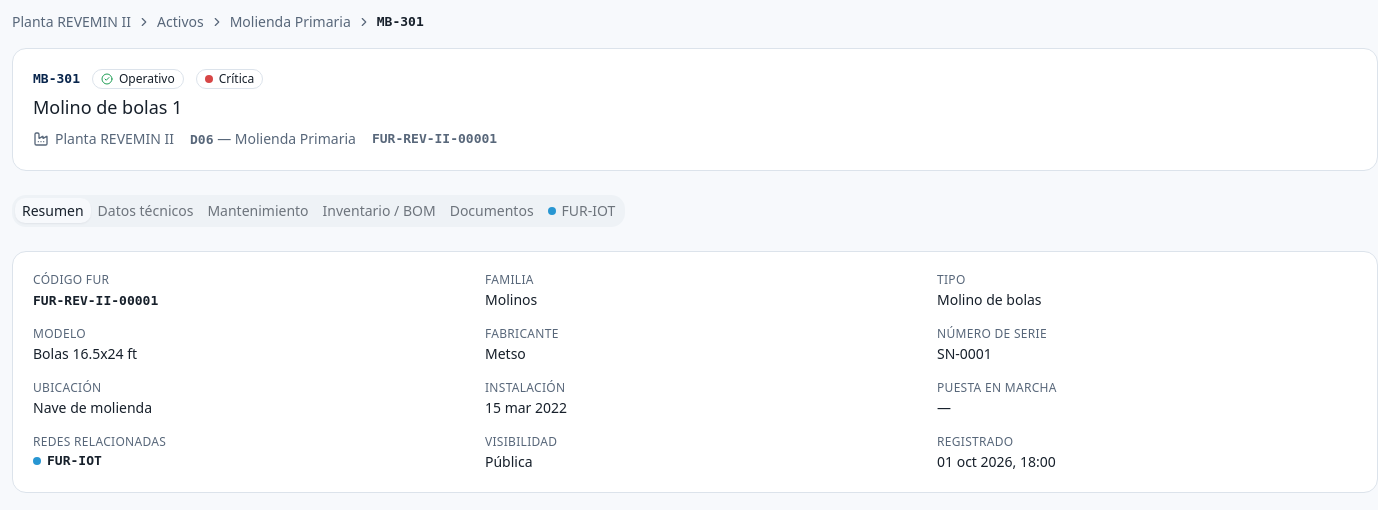
Ficha FUR del activo › Inventario / BOM › sin ítems vinculados ni consumos lo dice
This screenshot has width=1378, height=510.
Click the tab "Inventario / BOM" at (379,211), box [316,198,443,223]
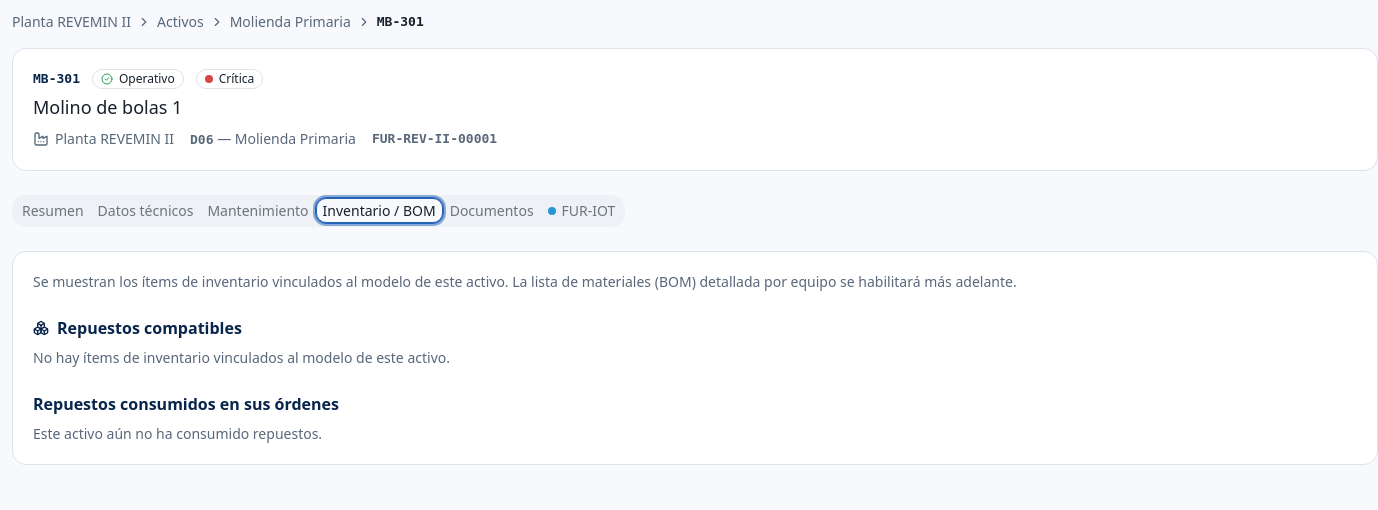
Expected: the text "No hay ítems de inventario vinculados" is shown, [33,348,450,367]
Expected: the text "Este activo aún no ha consumido repuestos." is shown, [33,424,322,443]
